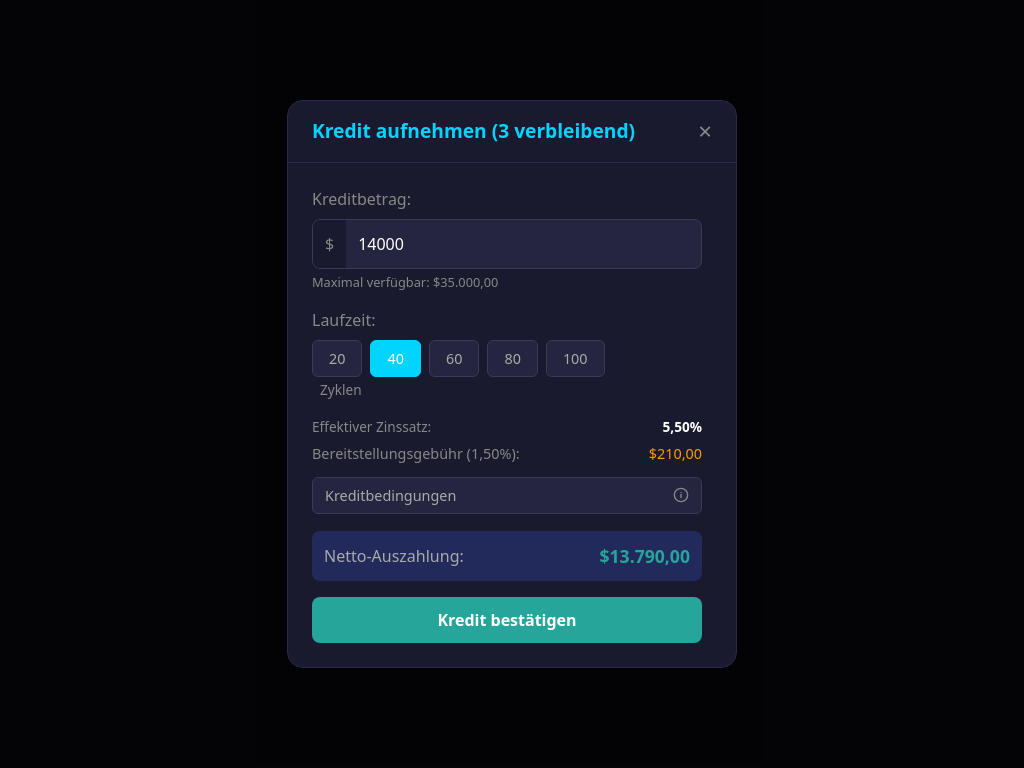
Test: Loan › amount input limit › should limit input to available credit
Try to enter more than available credit
Replace the text in the field with placeholder "0" with "99999" at (524, 244), box [346,221,701,267]
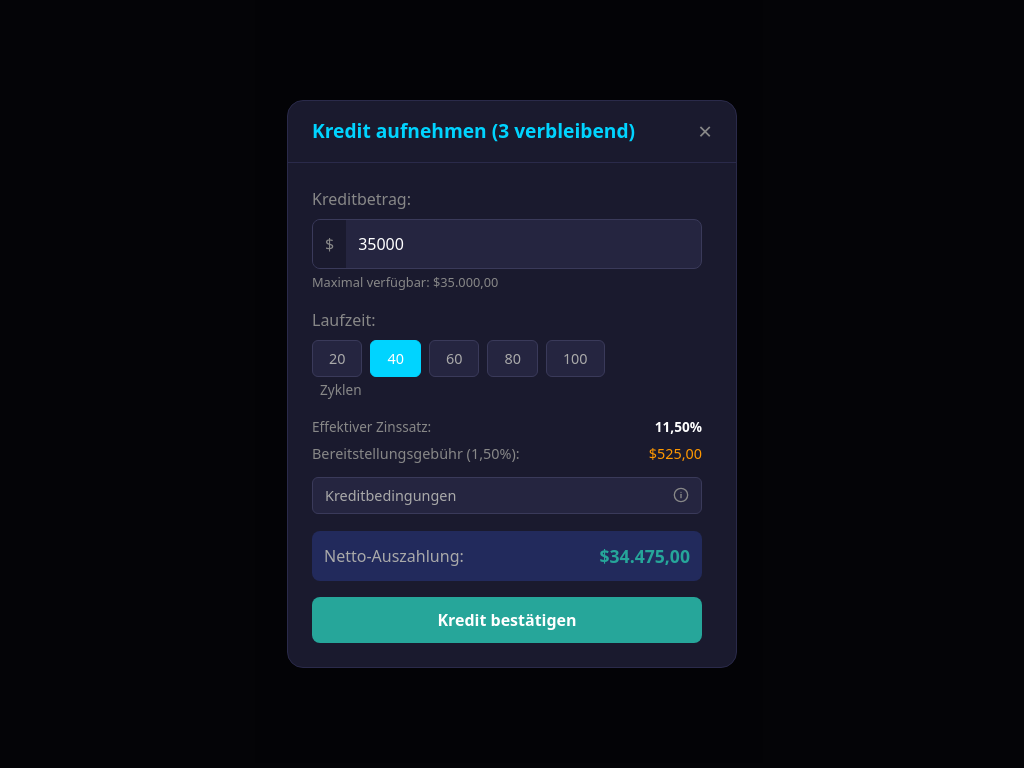
Result: the field with placeholder "0" holds "35000" at [346,221,701,267]
